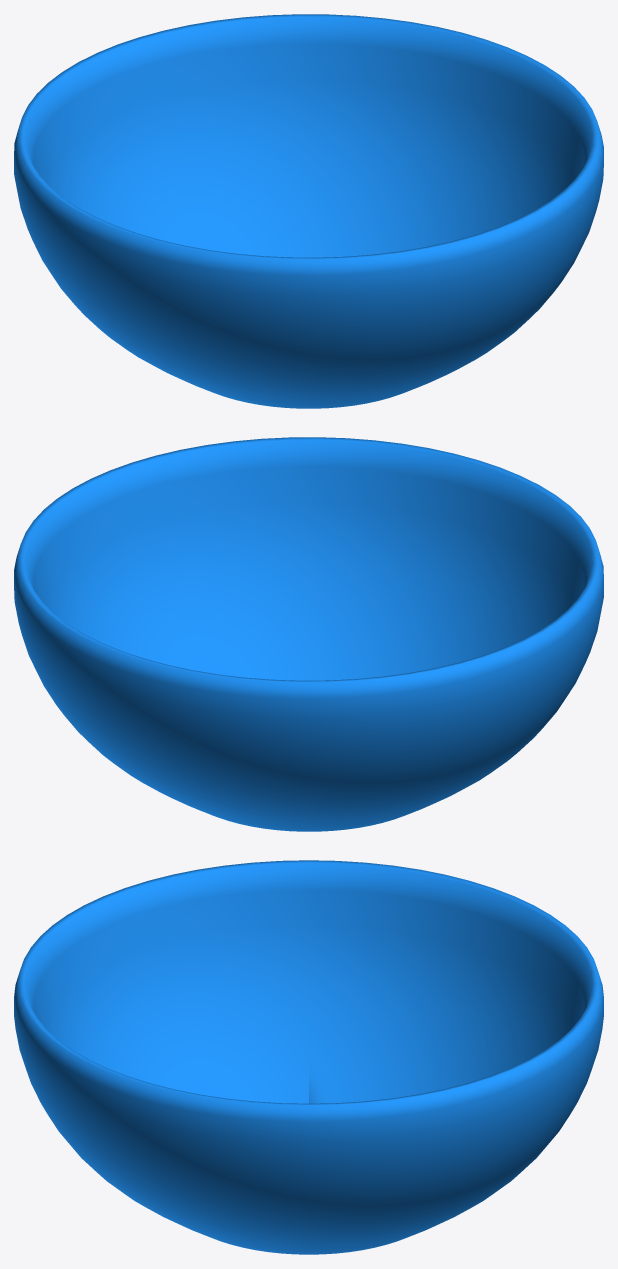
File: miska.obj
3 renders of one model, top to bottom at view 1: azimuth 30°, elevation 25°; view 2: azimuth 150°, elevation 25°; view 3: azimuth 270°, elevation 25°, orthographic.
Parts seen in each view (by area): view 1: Sphere; view 2: Sphere; view 3: Sphere.
Boxes of the visible parts, <box> form: Sphere: <box>14,14,603,408</box>; Sphere: <box>14,437,603,831</box>; Sphere: <box>14,860,603,1254</box>.
Size of the model in its own units: 2.23 by 0.9464 by 2.23.
1 material, 1 textured.
